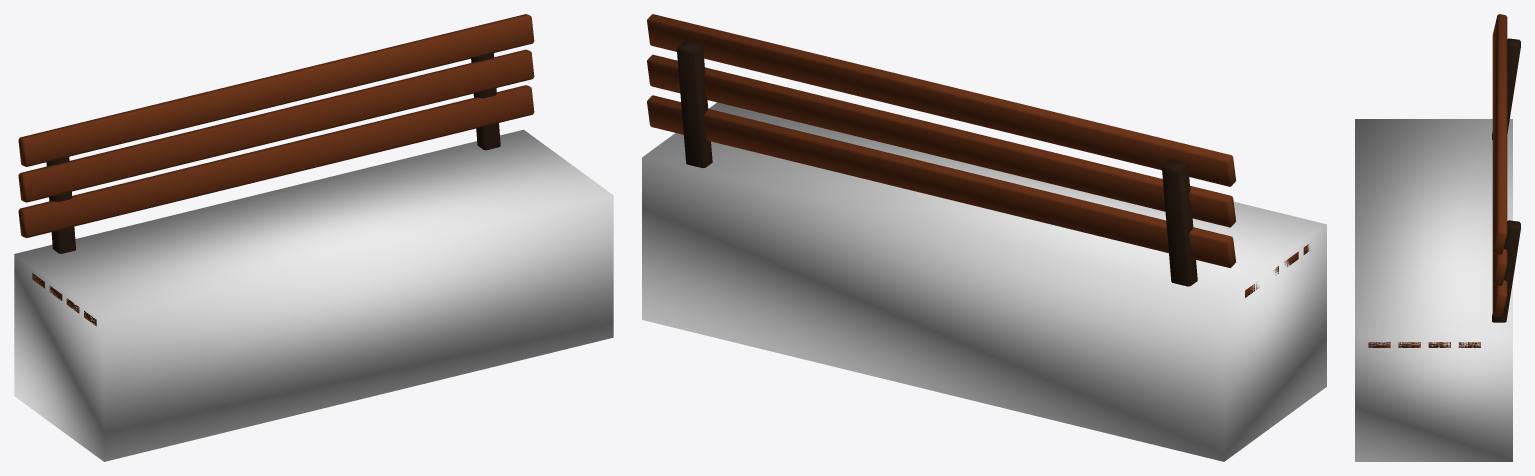
Rendered from banco_estacion.glb.
3 views of the same model, side by side, from view 1: azimuth 30°, elevation 25°; view 2: azimuth 150°, elevation 25°; view 3: azimuth 270°, elevation 25° (orthographic). The views are drawn at different scales.
Visible parts, largest first — view 1: banco-colcaja, banco; view 2: banco-colcaja, banco; view 3: banco-colcaja, banco.
Boxes of the visible parts, bbox=[...] form: banco-colcaja: bbox=[14, 129, 613, 461]; banco: bbox=[18, 14, 534, 326]; banco-colcaja: bbox=[642, 102, 1326, 461]; banco: bbox=[647, 14, 1310, 297]; banco-colcaja: bbox=[1355, 119, 1512, 461]; banco: bbox=[1368, 14, 1520, 347].
Size of the model in its own units: 1.8 by 0.8864 by 0.5781.
